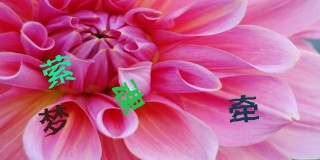梦: (38, 103, 69, 137)
牵: (228, 94, 259, 122)
萦: (40, 54, 76, 88)
魂: (112, 78, 145, 116)
